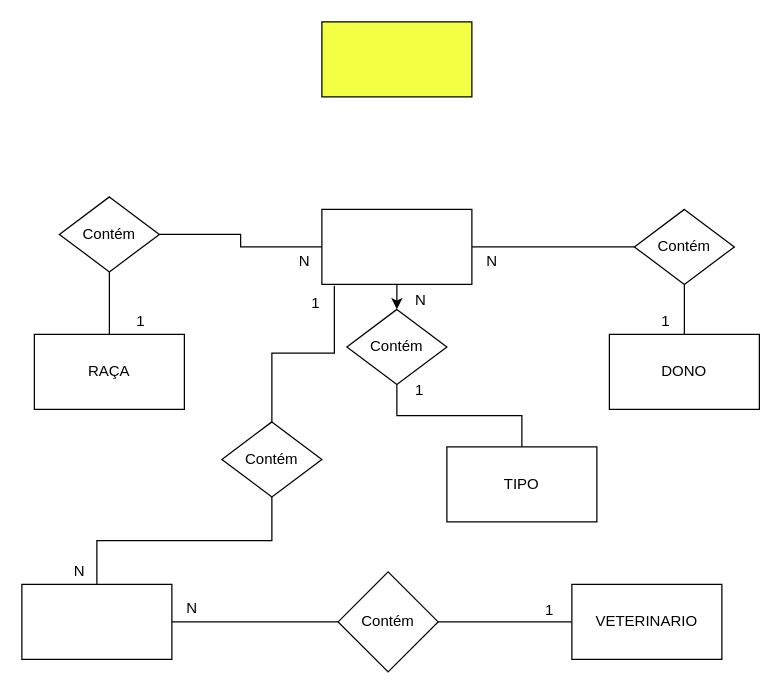
This 781x694 diagram has some shape labels left out. The shapes that lost their labels are listed below. From the top down, each one's centre as x and y in pixels, then its label:
At point 396,59: "CONCEITUAL".
At point 396,246: "PET".
At point 96,621: "ATENDIMENTO".
